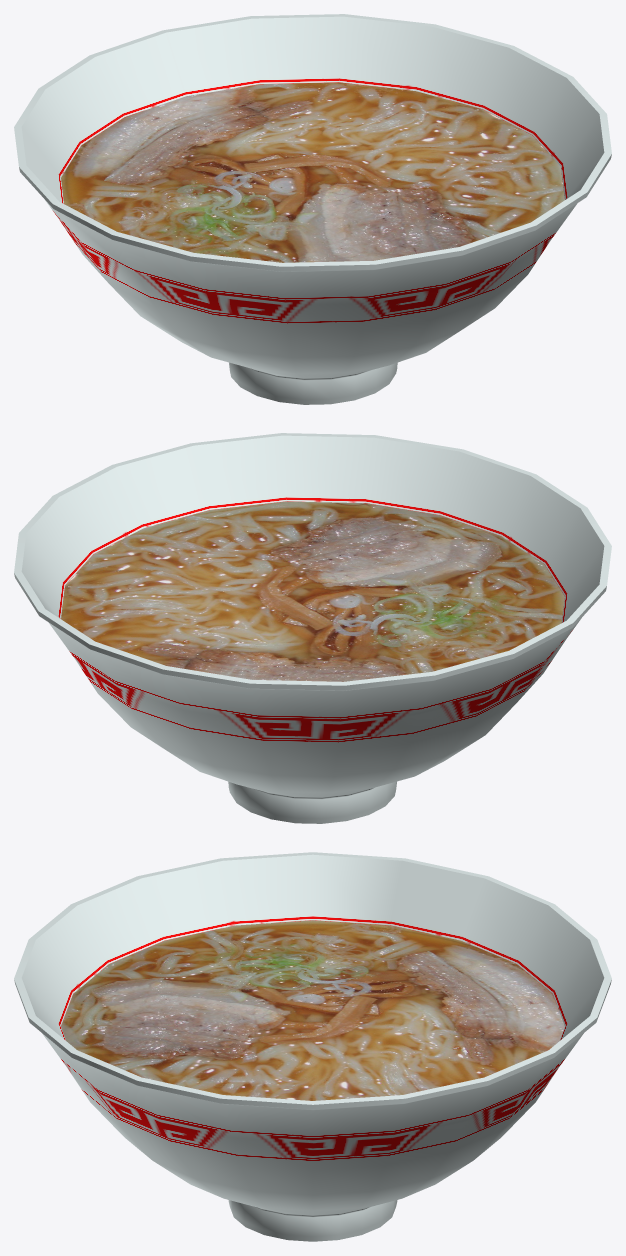
The model's file is donburi_ramen.fbx.
The picture shows the model from 3 angles, top to bottom: view 1: azimuth 30°, elevation 25°; view 2: azimuth 150°, elevation 25°; view 3: azimuth 270°, elevation 25°; orthographic projection.
Parts seen in each view (by area): view 1: ramen; view 2: ramen; view 3: ramen.
Part boxes in pixels (bbox=[...]): ramen: bbox=[14, 14, 611, 404]; ramen: bbox=[14, 433, 611, 823]; ramen: bbox=[14, 852, 611, 1241].
Bounding box in the file's own units: 13.86 × 5.85 × 13.86.
2 materials, 2 textured.
